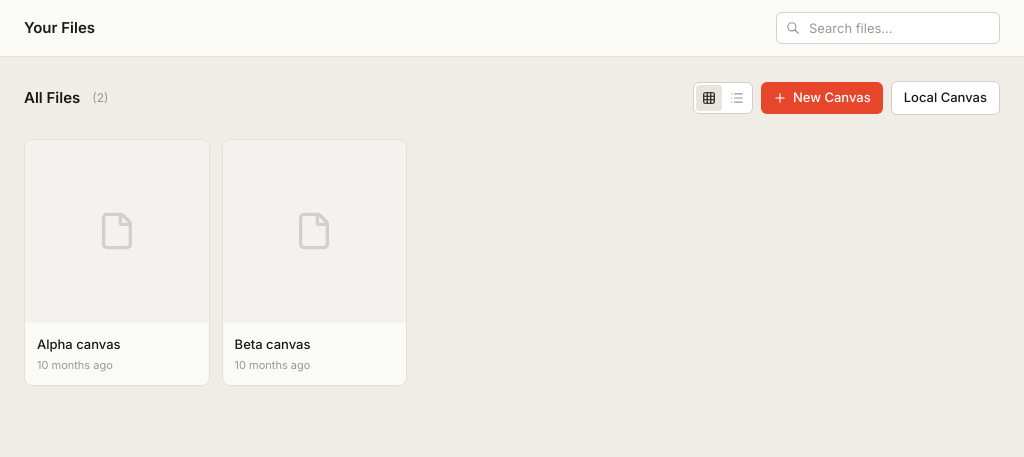
Test: DashboardFiles — create › falls back to a readable message for a non-Error rejection
Step 1. Click the button "New Canvas" → [822, 98], box x1=761 y1=82 x2=883 y2=114
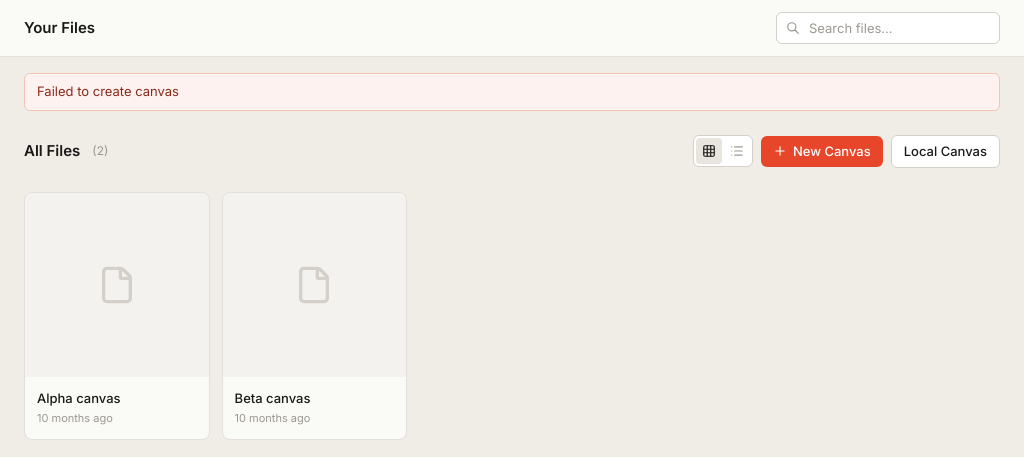
expect the text "Failed to create canvas" is shown: met, box x1=24 y1=73 x2=1000 y2=110
